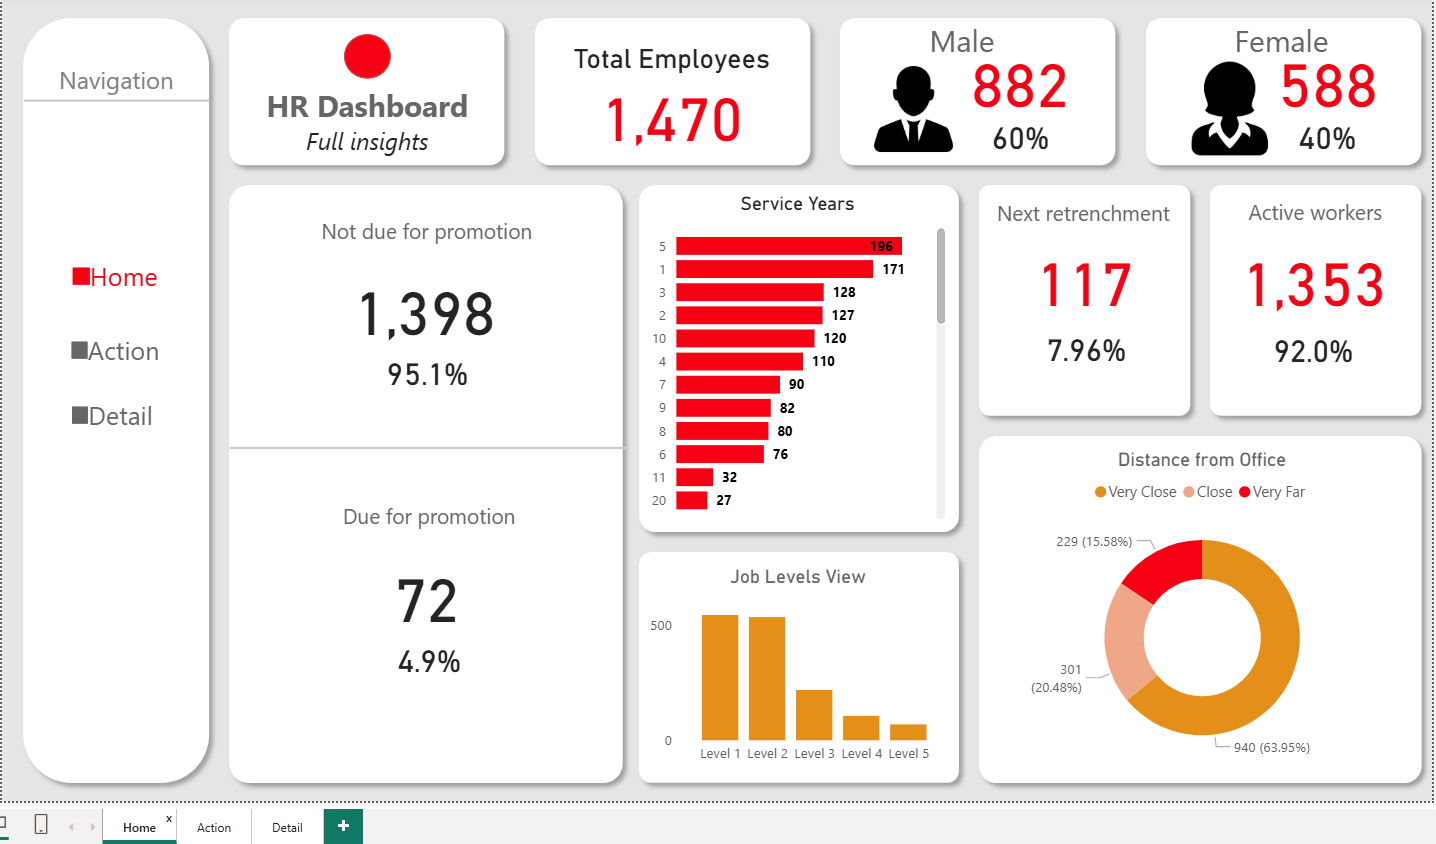

This screenshot's page, from the dashboard's own definition file:
{"tool":"powerbi","page":{"name":"Home","canvas":[1280,720],"ordinal":0},"visuals":[{"type":"shape","box":[10.2,10.2,184.6,703],"z":0},{"type":"shape","box":[194.5,9.7,264.6,149.8],"z":1000},{"type":"shape","box":[194.5,159.5,370.6,553.4],"z":2000},{"type":"shape","box":[561.2,159.5,304.4,328.8],"z":3000},{"type":"shape","box":[561.2,488.3,304.4,224.7],"z":4000},{"type":"shape","box":[865.7,384.2,414.3,328.8],"z":5000},{"type":"shape","box":[865.7,159.5,207.2,224.7],"z":6000},{"type":"shape","box":[1072.8,159.5,207.2,224.7],"z":7000},{"type":"shape","box":[468.2,9.7,264.6,149.8],"z":8000},{"type":"shape","box":[741.8,9.7,264.6,149.8],"z":9000},{"type":"shape","box":[1015.4,9.7,264.6,149.8],"z":10000},{"type":"textbox","box":[31.1,54.5,142,37.9],"z":11000},{"type":"shape","box":[19.5,63.2,166.3,58.4],"z":12000},{"type":"actionButton","box":[30.8,227.9,142.3,44.2],"z":13000},{"type":"actionButton","box":[30.8,293.8,142.3,44.2],"z":14000},{"type":"actionButton","box":[28,352,142,44],"z":15000},{"type":"textbox","box":[231,73,192,75],"z":16000},{"type":"shape","box":[306,33,42,40],"z":17000},{"type":"card","title":"Total Employees","fields":{"Values":["Calculations.Total_No_Emp"]},"box":[486,41,227,97],"z":18000},{"type":"card","fields":{"Values":["Calculations.Male_Emp"]},"box":[860,33,104,78],"z":19000},{"type":"card","fields":{"Values":["Calculations.%Aage_Males"]},"box":[874,102,76,46],"z":20000},{"type":"textbox","box":[826,15,95,51],"z":21000},{"type":"card","fields":{"Values":["Calculations.No_FemaleEmp"]},"box":[1135,33,104,78],"z":22000},{"type":"card","fields":{"Values":["Calculations.%age_Females"]},"box":[1149,102,76,46],"z":23000},{"type":"textbox","box":[1099,15,111,51],"z":24000},{"type":"image","box":[773,53,87,95],"z":25000},{"type":"image","box":[1050,53,98,94],"z":26000},{"type":"donutChart","title":"Distance from Office","fields":{"Y":["Calculations.Total_No_Emp"],"Category":["Employee_Data.Distance from office"]},"box":[885,404,380,292],"z":27000},{"type":"columnChart","title":"Job Levels View","fields":{"Y":["Calculations.Total_No_Emp"],"Category":["Employee_Data.Job Level"]},"box":[575,509,276,187],"z":28000},{"type":"clusteredBarChart","title":"Service Years","fields":{"Y":["Calculations.Total_No_Emp"],"Category":["Employee_Data.YearsAtCompany"]},"box":[575,175,275,298],"z":29000},{"type":"card","fields":{"Values":["Calculations.No_InService"]},"box":[1093,209,163,84],"z":30000},{"type":"card","fields":{"Values":["Calculations.%age_InService"]},"box":[1124,293,101,46],"z":31000},{"type":"textbox","box":[1097,175,158,42],"z":32000},{"type":"textbox","box":[878,175.3,181.3,42],"z":33000},{"type":"card","fields":{"Values":["Calculations.No_Layoff"]},"box":[878.7,213.3,181.3,76],"z":34000},{"type":"card","fields":{"Values":["Calculations.%age_Layoff"]},"box":[921,292,101,46],"z":35000},{"type":"shape","box":[204,374,357,59],"z":36000},{"type":"textbox","box":[292,447,181,42],"z":37000},{"type":"textbox","box":[250,192,261,42],"z":38000},{"type":"card","fields":{"Values":["Calculations.No_DueForPromotion"]},"box":[282,497,196,73],"z":39000},{"type":"card","fields":{"Values":["Calculations.%age_DueForPromotion"]},"box":[332,570,101,46],"z":40000},{"type":"card","fields":{"Values":["Calculations.No_NotDueForPromotion"]},"box":[280,240,196,73],"z":41000},{"type":"card","fields":{"Values":["Calculations.%age_NotDueForPromotion"]},"box":[330,313,101,46],"z":42000}]}

Visuals, with their boxes on the page's 1280x720 design canvas (x1, y1, x2, y2). These are canvas units, not pixel positions in the 1436x844 screenshot, which may show the page scaled, cropped or inside an application window:
shape: l=10, t=10, r=195, b=713
shape: l=194, t=10, r=459, b=160
shape: l=194, t=160, r=565, b=713
shape: l=561, t=160, r=866, b=488
shape: l=561, t=488, r=866, b=713
shape: l=866, t=384, r=1280, b=713
shape: l=866, t=160, r=1073, b=384
shape: l=1073, t=160, r=1280, b=384
shape: l=468, t=10, r=733, b=160
shape: l=742, t=10, r=1006, b=160
shape: l=1015, t=10, r=1280, b=160
textbox: l=31, t=54, r=173, b=92
shape: l=20, t=63, r=186, b=122
actionButton: l=31, t=228, r=173, b=272
actionButton: l=31, t=294, r=173, b=338
actionButton: l=28, t=352, r=170, b=396
textbox: l=231, t=73, r=423, b=148
shape: l=306, t=33, r=348, b=73
"Total Employees" card: l=486, t=41, r=713, b=138
card - Calculations.Male_Emp: l=860, t=33, r=964, b=111
card - Calculations.%Aage_Males: l=874, t=102, r=950, b=148
textbox: l=826, t=15, r=921, b=66
card - Calculations.No_FemaleEmp: l=1135, t=33, r=1239, b=111
card - Calculations.%age_Females: l=1149, t=102, r=1225, b=148
textbox: l=1099, t=15, r=1210, b=66
image: l=773, t=53, r=860, b=148
image: l=1050, t=53, r=1148, b=147
"Distance from Office" donutChart: l=885, t=404, r=1265, b=696
"Job Levels View" columnChart: l=575, t=509, r=851, b=696
"Service Years" clusteredBarChart: l=575, t=175, r=850, b=473
card - Calculations.No_InService: l=1093, t=209, r=1256, b=293
card - Calculations.%age_InService: l=1124, t=293, r=1225, b=339
textbox: l=1097, t=175, r=1255, b=217
textbox: l=878, t=175, r=1059, b=217
card - Calculations.No_Layoff: l=879, t=213, r=1060, b=289
card - Calculations.%age_Layoff: l=921, t=292, r=1022, b=338
shape: l=204, t=374, r=561, b=433
textbox: l=292, t=447, r=473, b=489
textbox: l=250, t=192, r=511, b=234
card - Calculations.No_DueForPromotion: l=282, t=497, r=478, b=570
card - Calculations.%age_DueForPromotion: l=332, t=570, r=433, b=616
card - Calculations.No_NotDueForPromotion: l=280, t=240, r=476, b=313
card - Calculations.%age_NotDueForPromotion: l=330, t=313, r=431, b=359
